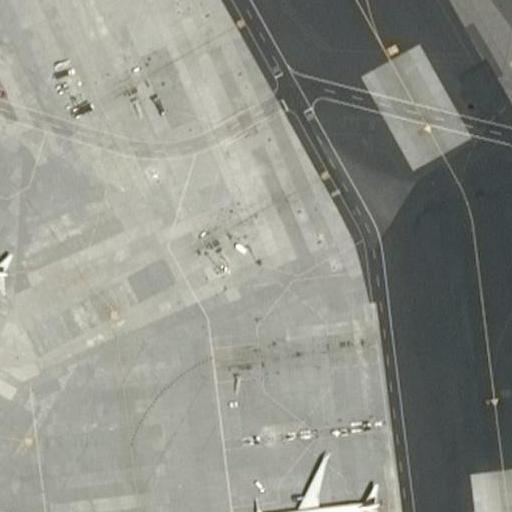Aircraft: (244, 450, 383, 512), (0, 202, 16, 317)
